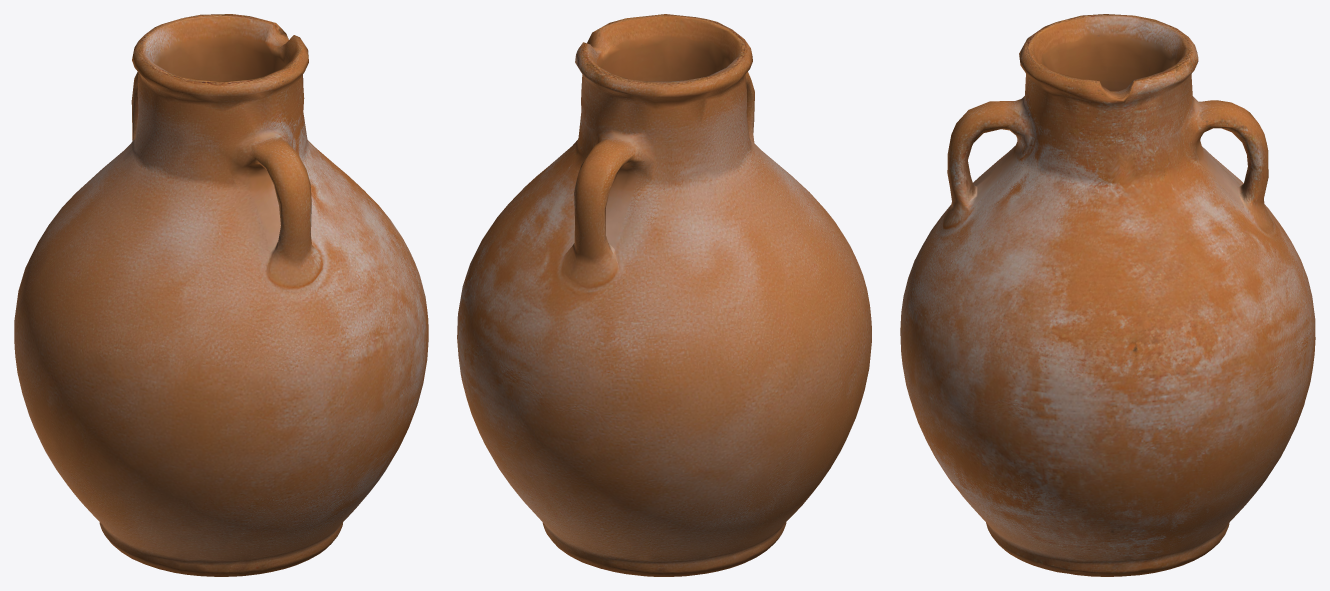
Rendered from jug.glb.
The picture shows the model from 3 angles, left to right: view 1: azimuth 30°, elevation 25°; view 2: azimuth 150°, elevation 25°; view 3: azimuth 270°, elevation 25°; orthographic projection.
Visible parts, largest first — view 1: tripo_node_5cc0b6a1-047c-4d77-9b04-f237edd1e81c; view 2: tripo_node_5cc0b6a1-047c-4d77-9b04-f237edd1e81c; view 3: tripo_node_5cc0b6a1-047c-4d77-9b04-f237edd1e81c.
Part boxes in pixels (box(x1,y1,x2,y2)): tripo_node_5cc0b6a1-047c-4d77-9b04-f237edd1e81c: box(14, 14, 428, 576); tripo_node_5cc0b6a1-047c-4d77-9b04-f237edd1e81c: box(457, 14, 871, 576); tripo_node_5cc0b6a1-047c-4d77-9b04-f237edd1e81c: box(900, 14, 1315, 576).
Size of the model in its own units: 0.2499 by 0.32 by 0.25.
1 material, 1 textured.
